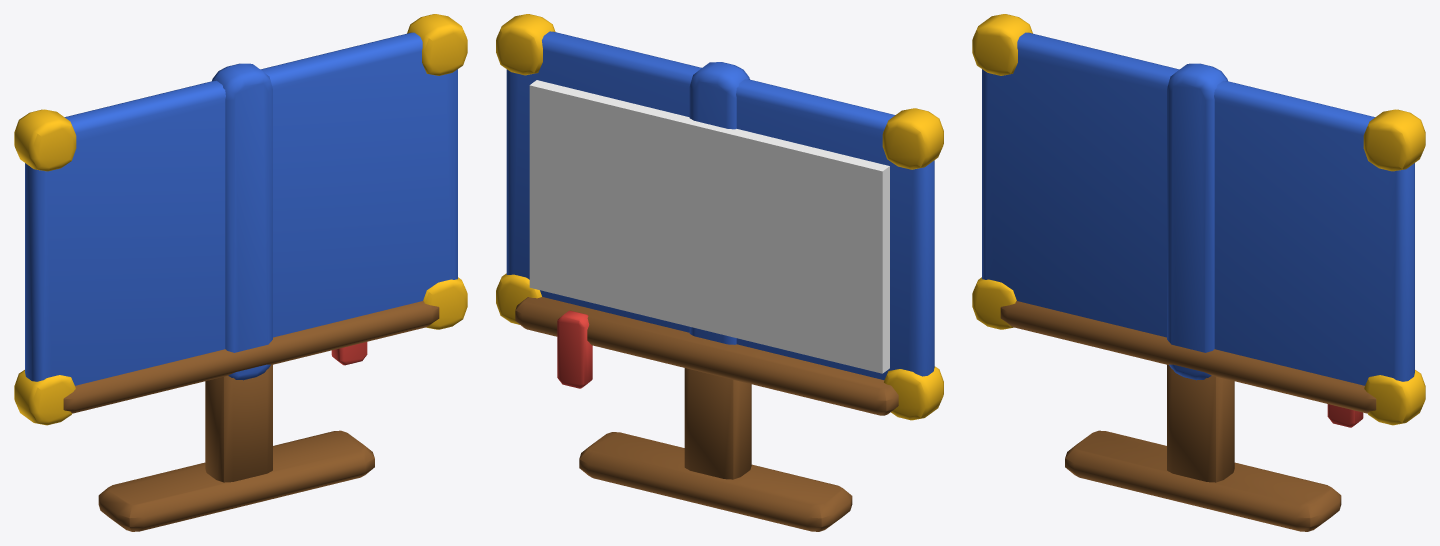
Rendered from Hub_IndexBoard.glb.
The picture shows the model from 3 angles, left to right: view 1: azimuth 30°, elevation 25°; view 2: azimuth 150°, elevation 25°; view 3: azimuth 330°, elevation 25°; orthographic projection.
Visible parts, largest first — view 1: Cover_3B6FE0, Stand_8A5A2B, Gold_FFC21A, Ribbon_E0453C; view 2: Face_FFFFFF, Cover_3B6FE0, Stand_8A5A2B, Gold_FFC21A, Ribbon_E0453C; view 3: Cover_3B6FE0, Stand_8A5A2B, Gold_FFC21A, Ribbon_E0453C.
Boxes of the visible parts, <box> form: Cover_3B6FE0: <box>25,32,457,385</box>; Stand_8A5A2B: <box>63,301,439,531</box>; Gold_FFC21A: <box>14,14,467,425</box>; Ribbon_E0453C: <box>331,342,367,365</box>; Face_FFFFFF: <box>529,80,889,373</box>; Cover_3B6FE0: <box>506,31,934,379</box>; Stand_8A5A2B: <box>515,297,898,531</box>; Gold_FFC21A: <box>496,14,943,420</box>; Ribbon_E0453C: <box>557,310,592,388</box>; Cover_3B6FE0: <box>982,32,1414,385</box>; Stand_8A5A2B: <box>1000,301,1376,531</box>; Gold_FFC21A: <box>972,14,1425,425</box>; Ribbon_E0453C: <box>1327,404,1363,427</box>.
Bounding box in the file's own units: 10.3 × 9.65 × 1.55.
